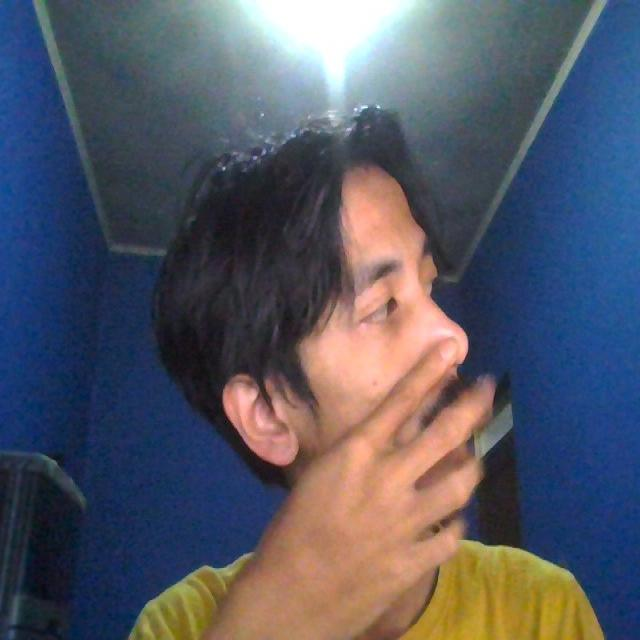melihat kekiri: (132, 127, 506, 533)
movement: (208, 313, 522, 640)
